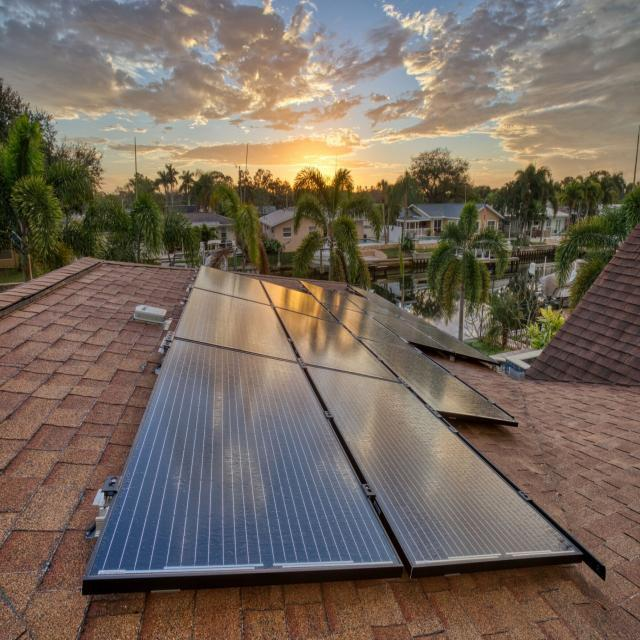no faulty: (95, 343, 391, 573), (310, 373, 565, 565), (375, 335, 510, 414), (281, 308, 394, 379), (180, 289, 289, 362)
